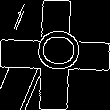O_W: (29, 32, 81, 78)
